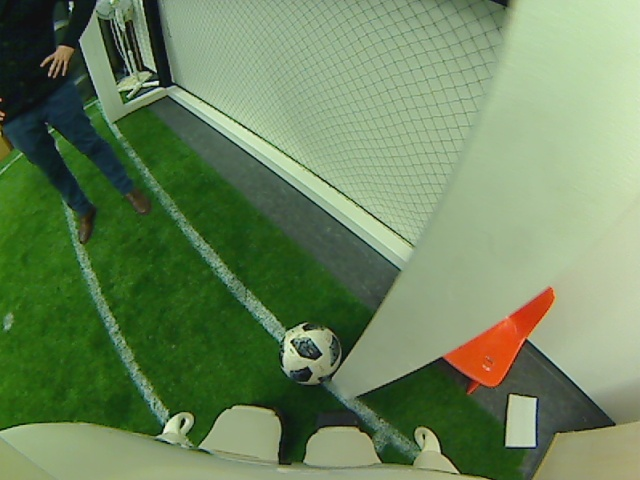ball: (278, 320, 342, 392)
